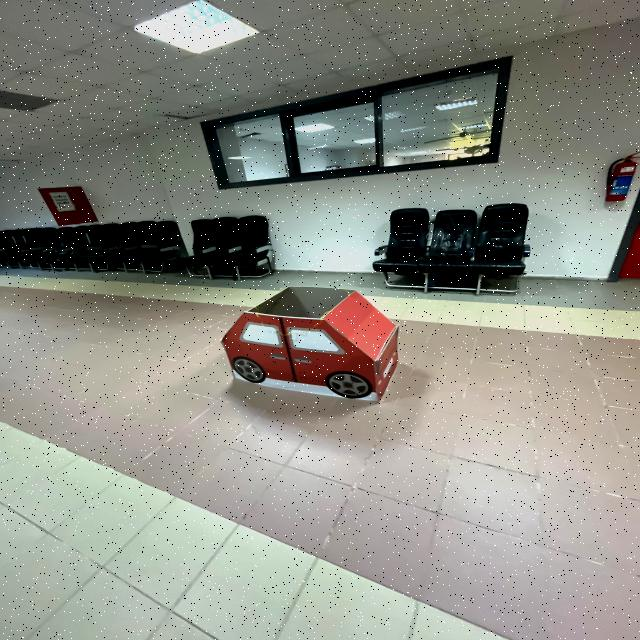red_car: (214, 278, 407, 426)
